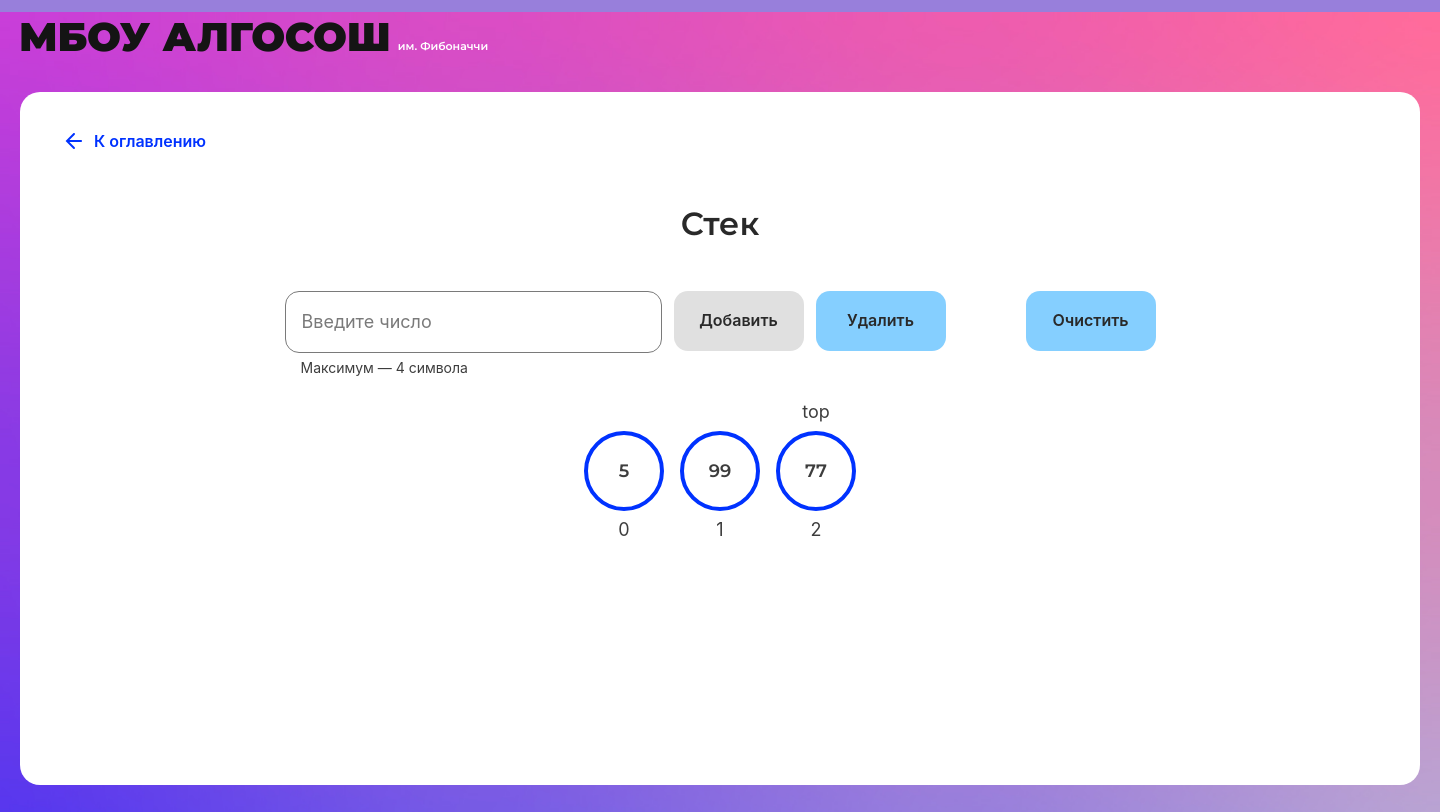
Test case: stack › delete
Expected: the number of elements with test id "circle" is 3, [584,431,664,511]; [680,431,760,511]; [776,431,856,511]
Click the button with test id "stack-delete" at [881, 321], box [816,291,946,351]
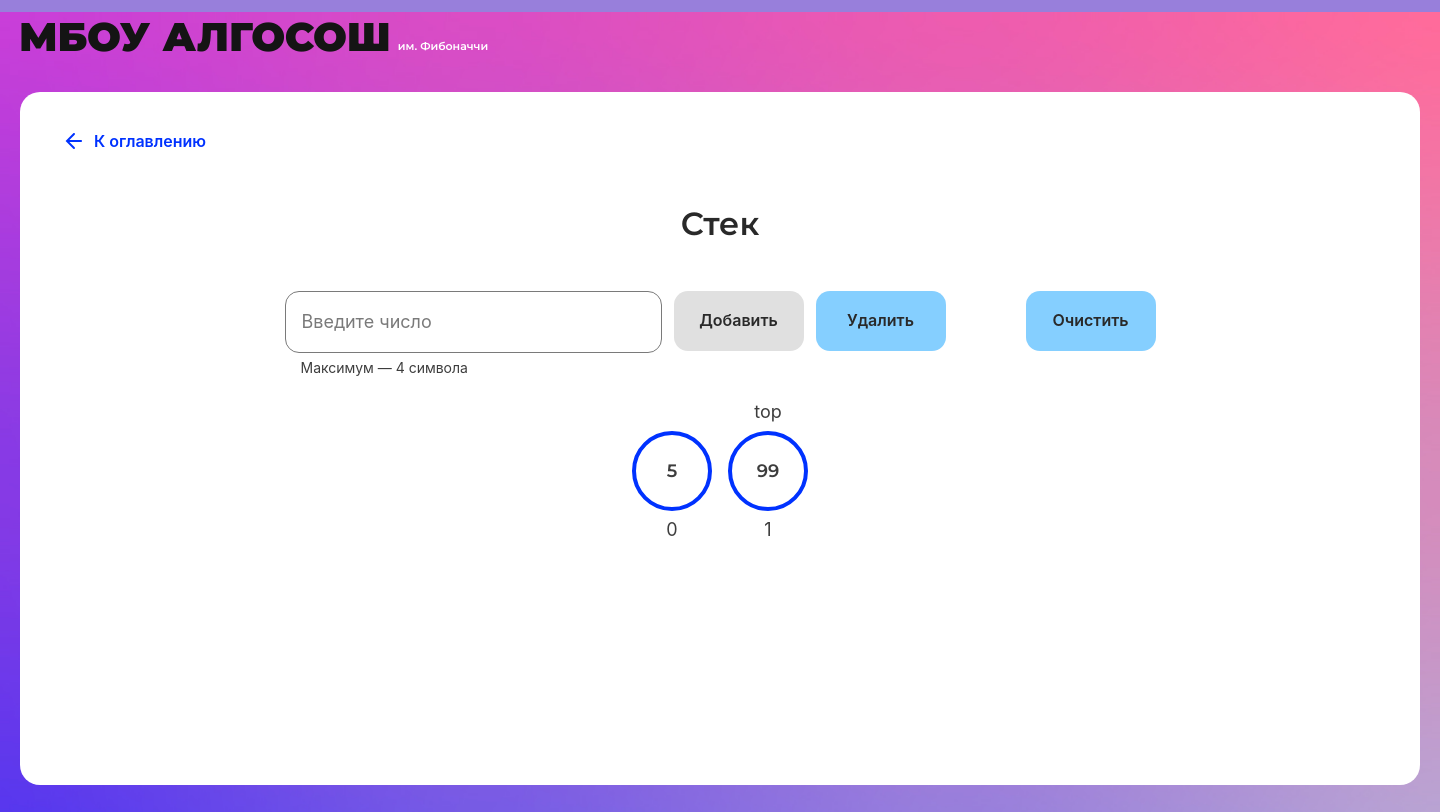
Now the number of elements with test id "circle" is 2, box [632,431,712,511]; [728,431,808,511]
